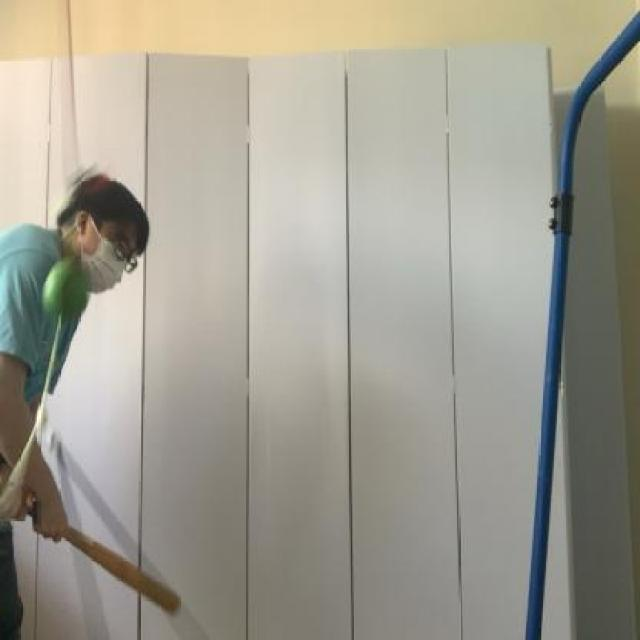baseball: (36, 251, 93, 331)
